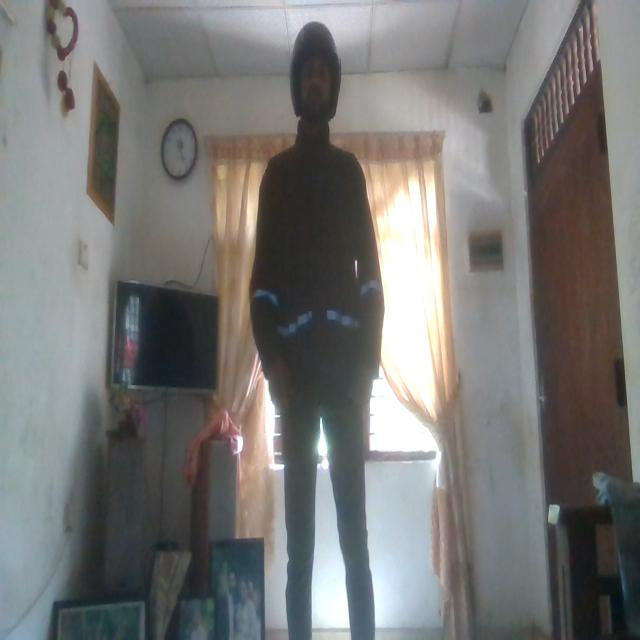Helmet_Wearer: (288, 14, 344, 131)
Jacket_Wearer: (255, 123, 387, 466)
Person: (250, 29, 388, 640)
